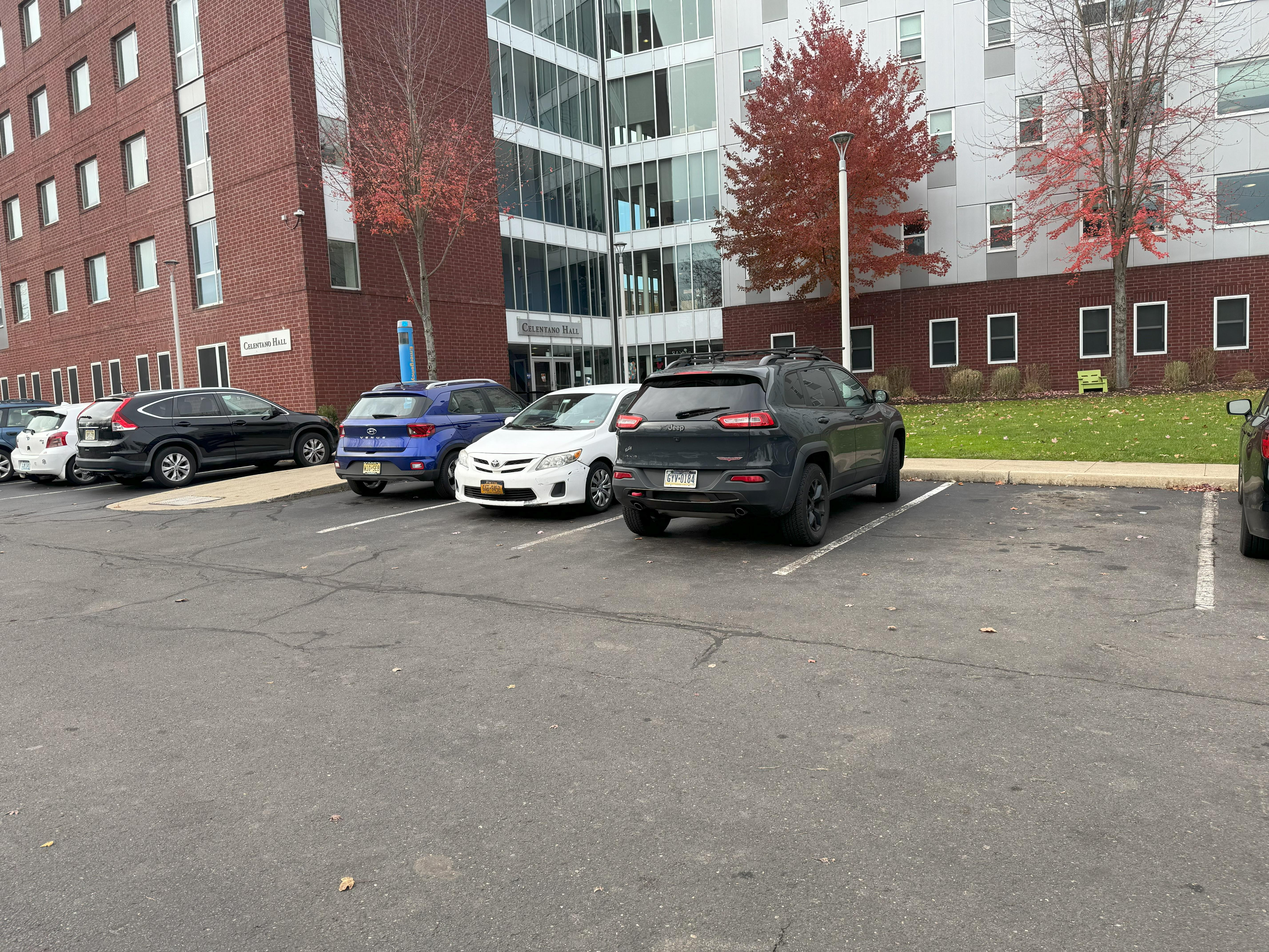empty: (938, 443, 1198, 586)
occupied: (614, 374, 910, 561), (449, 360, 612, 552), (63, 380, 318, 496), (314, 356, 452, 508), (9, 385, 89, 506)
